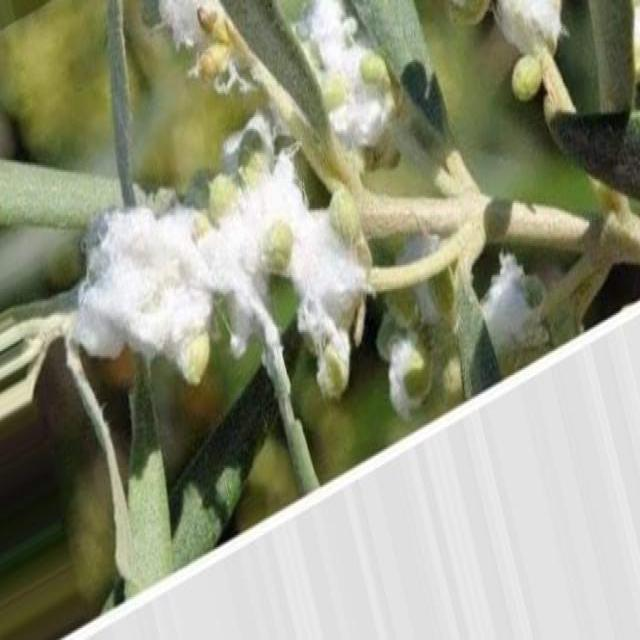Psyllid: (76, 152, 481, 396), (276, 0, 410, 162), (465, 0, 574, 120)
